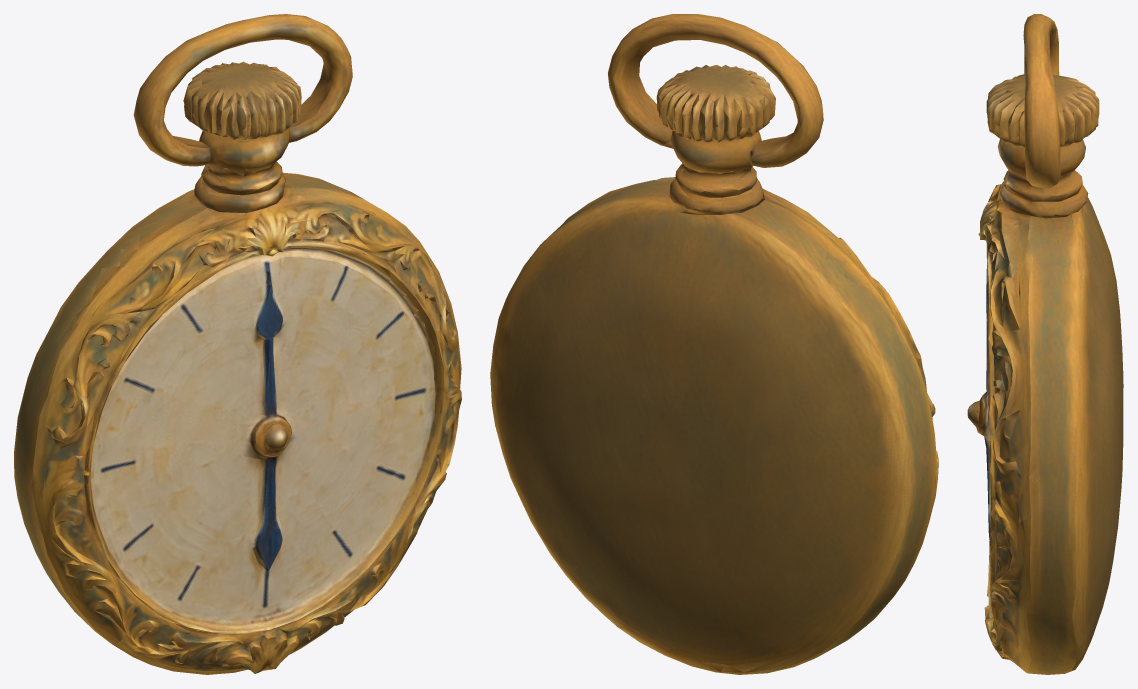
The model's file is watch.glb.
3 renders of one model, left to right at view 1: azimuth 30°, elevation 25°; view 2: azimuth 150°, elevation 25°; view 3: azimuth 270°, elevation 25°, orthographic. The views are drawn at different scales.
Parts seen in each view (by area): view 1: watch; view 2: watch; view 3: watch.
Part boxes in pixels (x1,y1,x2,y2): watch: (14, 14, 461, 674); watch: (490, 14, 938, 674); watch: (967, 14, 1123, 674).
Size of the model in its own units: 0.4982 by 0.7151 by 0.1614.
1 material, 1 textured.
